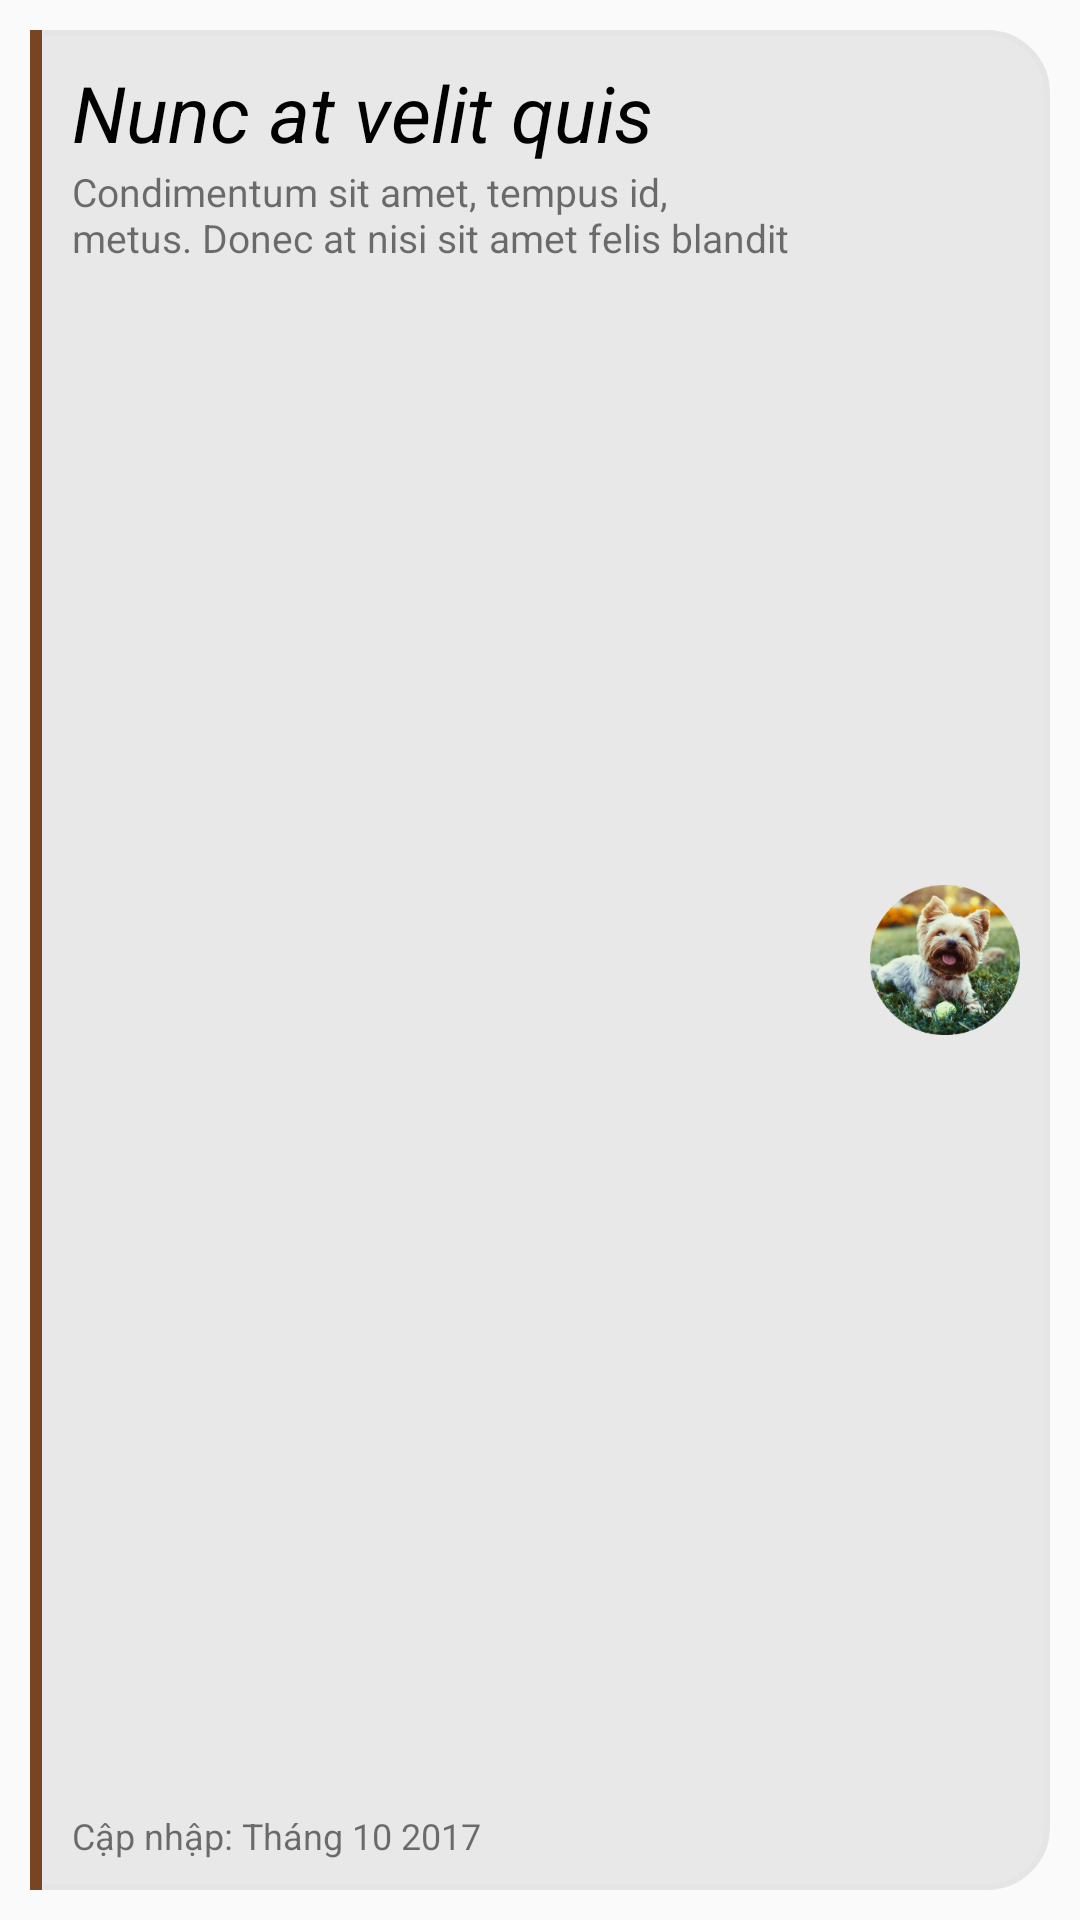

Named icons in this screenshot (1080 x 1920) and their centers, (x,y):
dog: (945,960)
